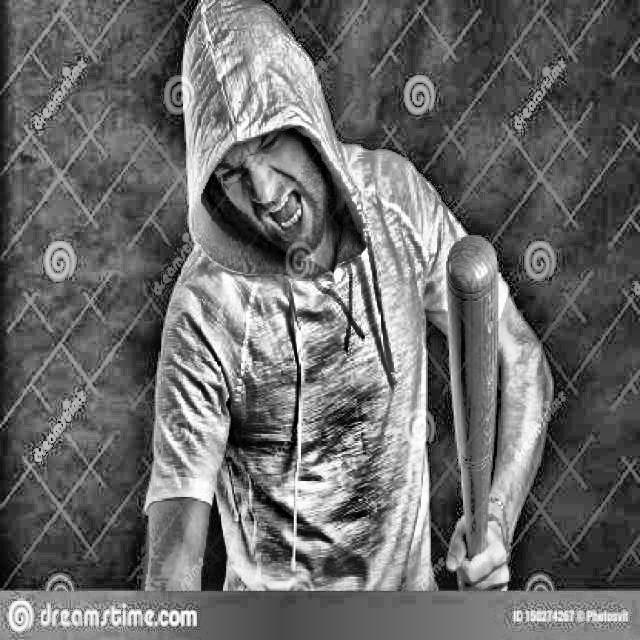tongkat pemukul: (435, 231, 517, 594)
